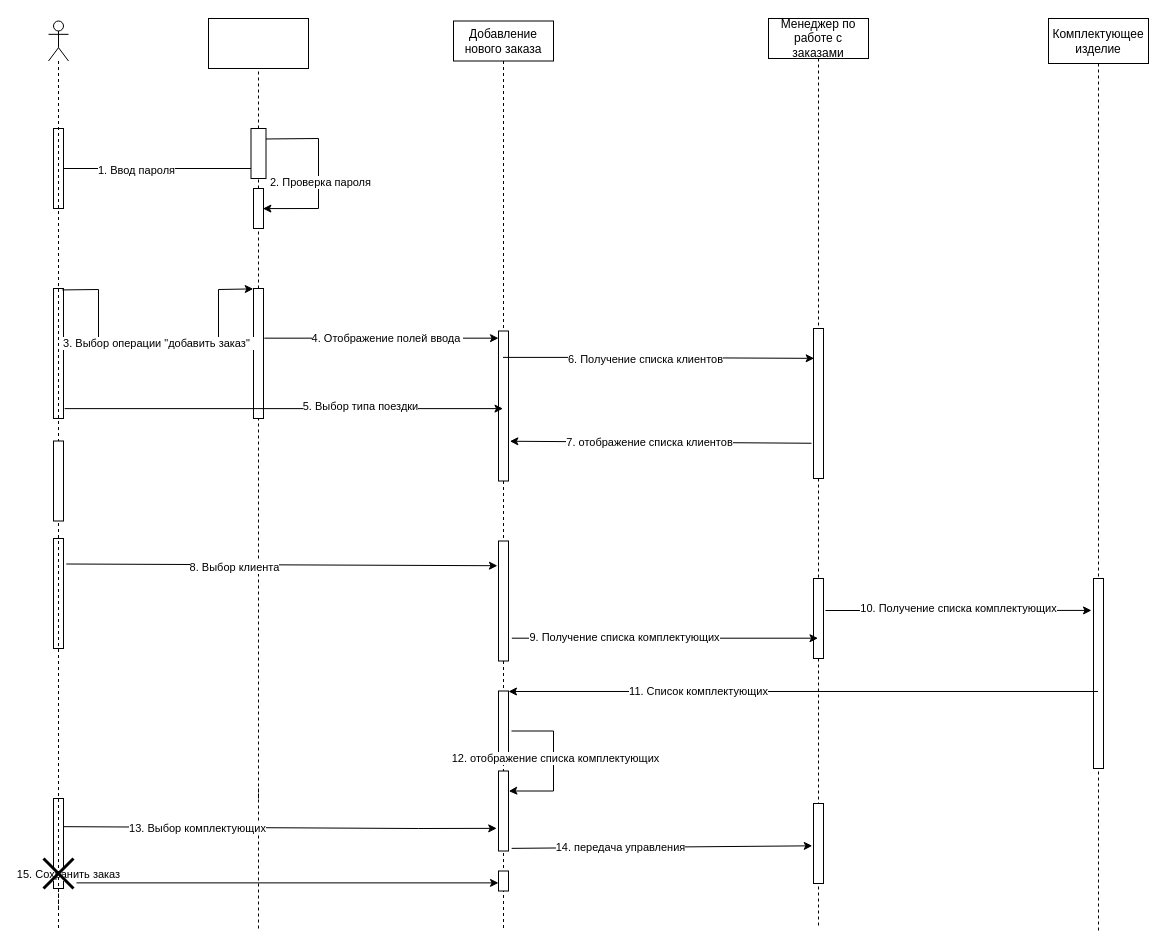
The diagram is 1166 pixels wide and 951 high, and some of its shapes have lost their labels. Here are the shapes that lost their labels. From the top down, the centre of each, then its label:
At (258,43): "параметры работы с заказом".
At (58,475): "Менеджер по работе с клиентами".
